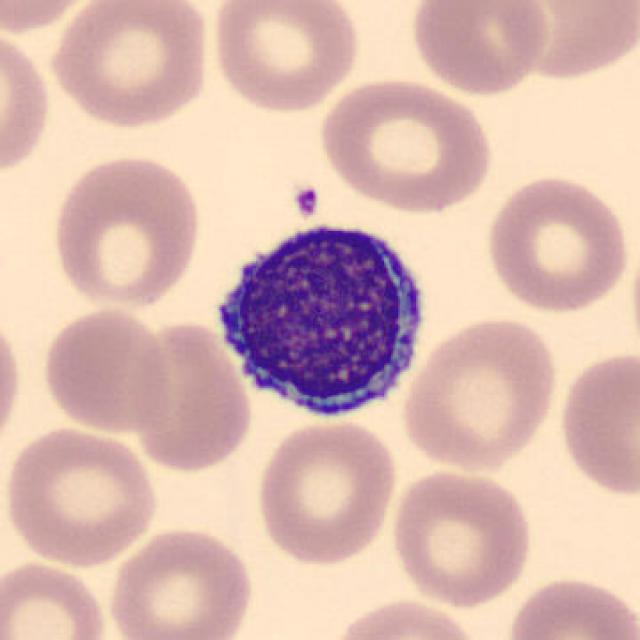Lymphocyte: (210, 218, 430, 422)
Platelets: (290, 182, 322, 222)
RBC: (398, 312, 562, 474), (313, 72, 496, 215), (46, 150, 206, 312), (0, 423, 162, 570), (252, 416, 400, 568), (480, 169, 633, 316), (44, 0, 215, 130), (386, 465, 537, 610), (124, 314, 256, 476), (37, 303, 176, 437), (206, 0, 364, 116), (103, 523, 256, 640), (407, 0, 555, 99), (485, 0, 639, 86), (555, 347, 638, 501), (0, 555, 112, 640), (503, 571, 640, 640), (0, 25, 55, 182), (326, 594, 486, 640), (0, 304, 27, 458), (0, 0, 108, 37)
